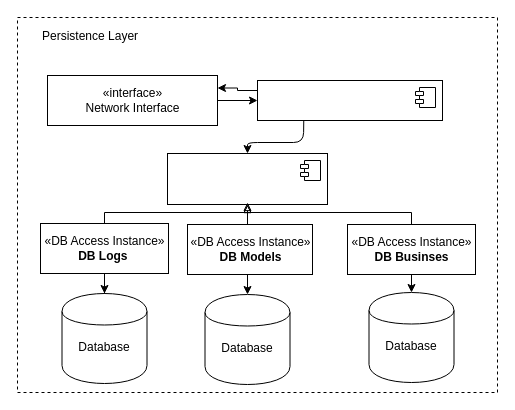
This 515x410 diagram has some shape labels left out. Each missing label, with the centre of its shape:
"«DB Access» Database Access" goes at point (247, 178).
"«DB Manager» Database Manager" goes at point (349, 100).
